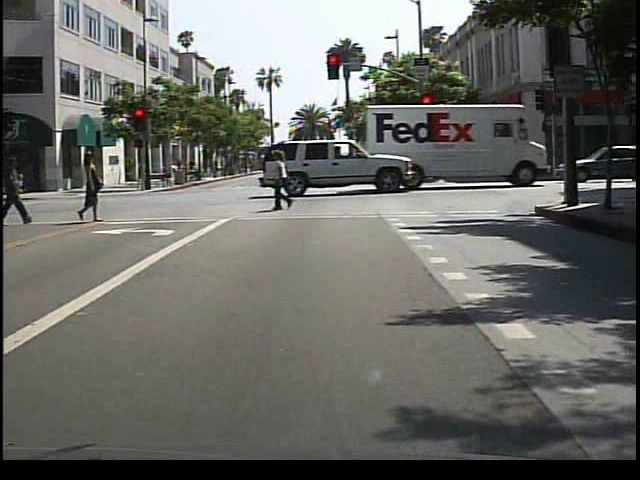person: (78, 148, 110, 226), (269, 148, 306, 214), (7, 153, 35, 227), (187, 156, 200, 181)
